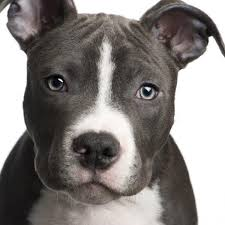Perro Pitbull: (2, 1, 190, 203)
